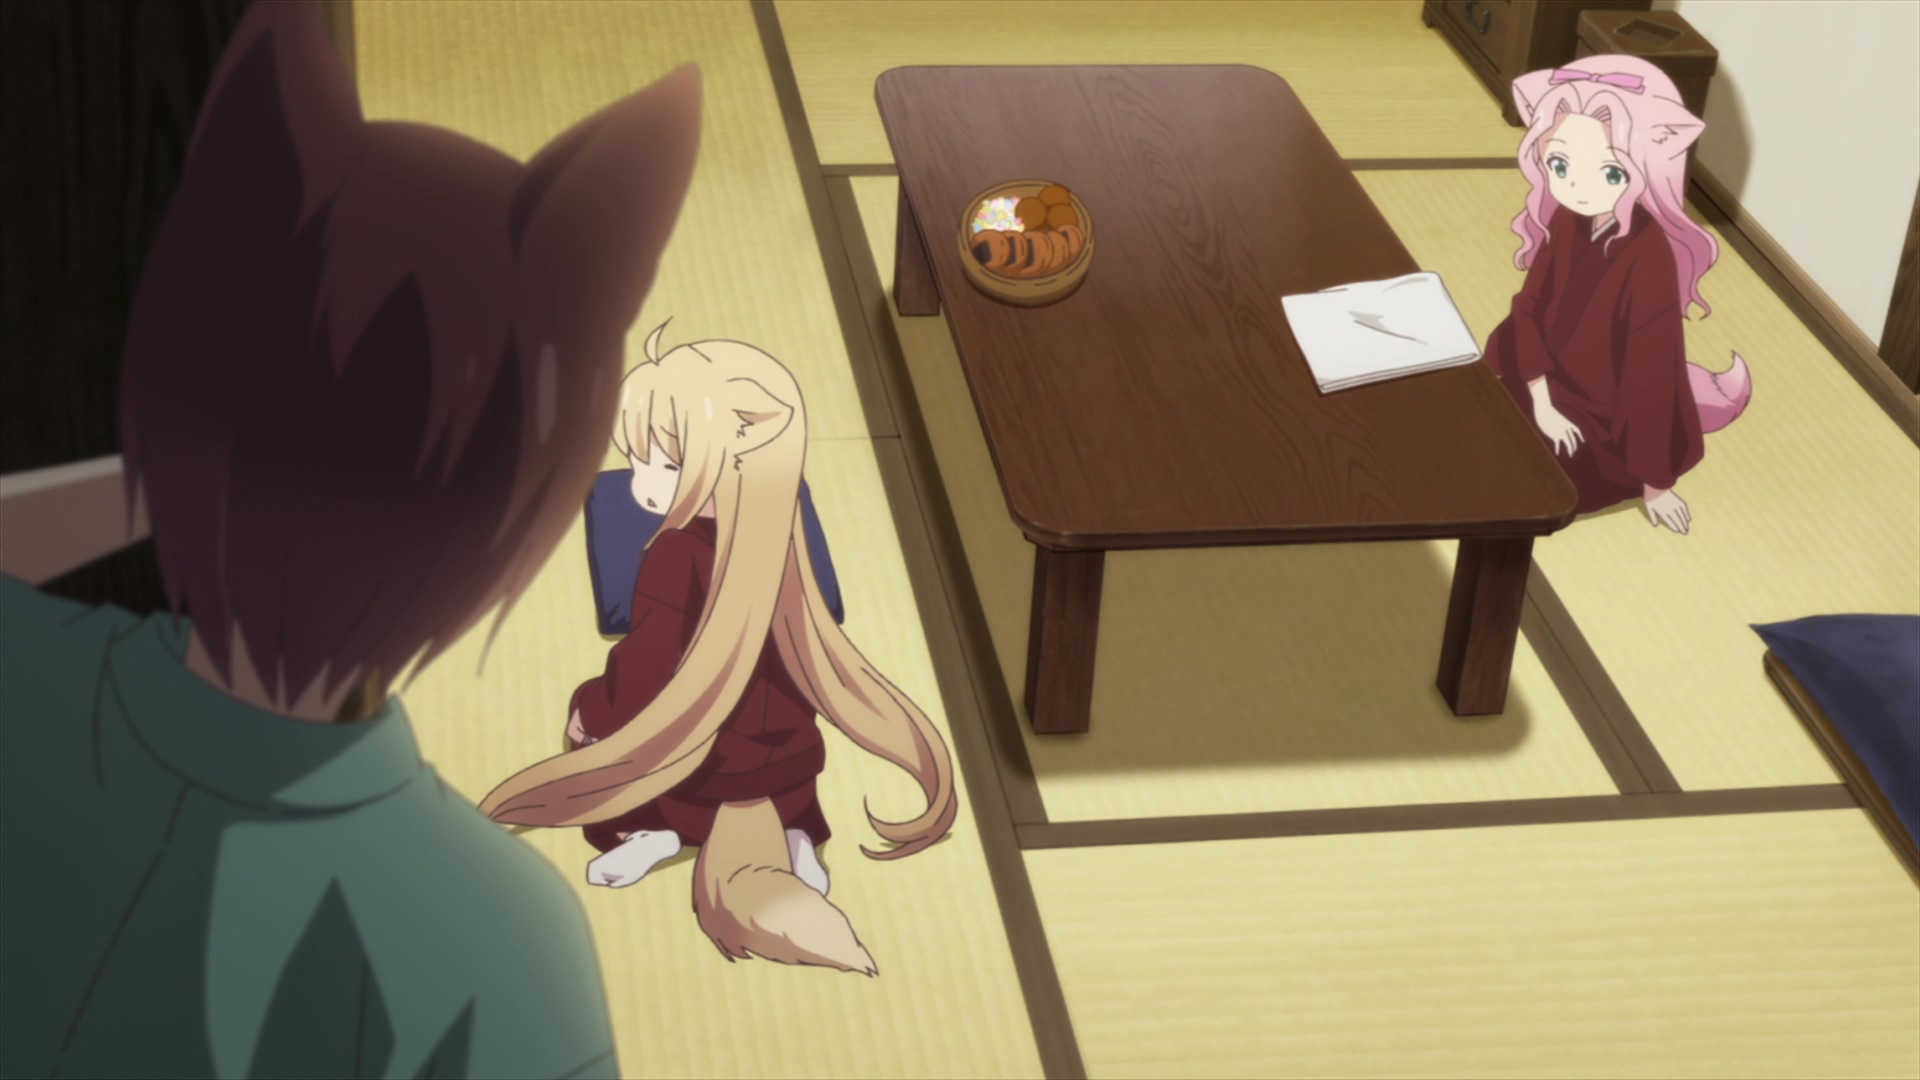枣: (1, 1, 705, 1080)
柚: (473, 313, 957, 978)
莲: (1481, 53, 1754, 534)
